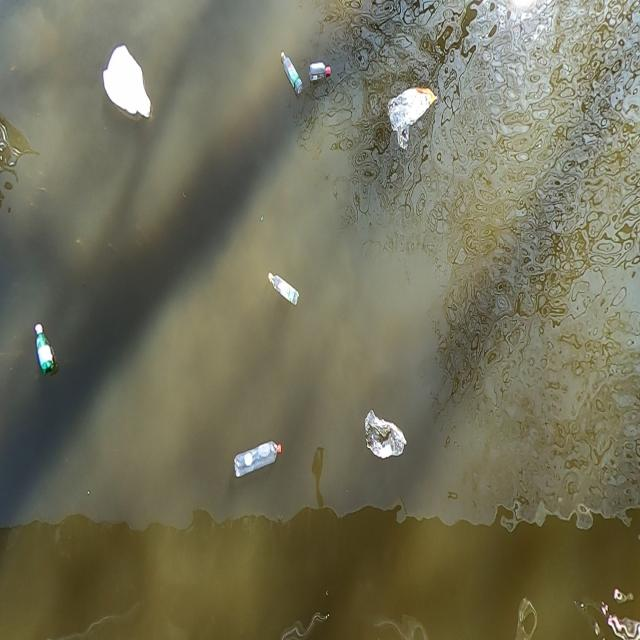Autre plastique: (100, 39, 156, 126)
Bouteille plastique: (233, 439, 289, 481), (30, 314, 58, 382), (265, 271, 300, 310), (280, 47, 304, 101), (308, 63, 332, 84)
Sac plastique: (389, 71, 440, 155)
